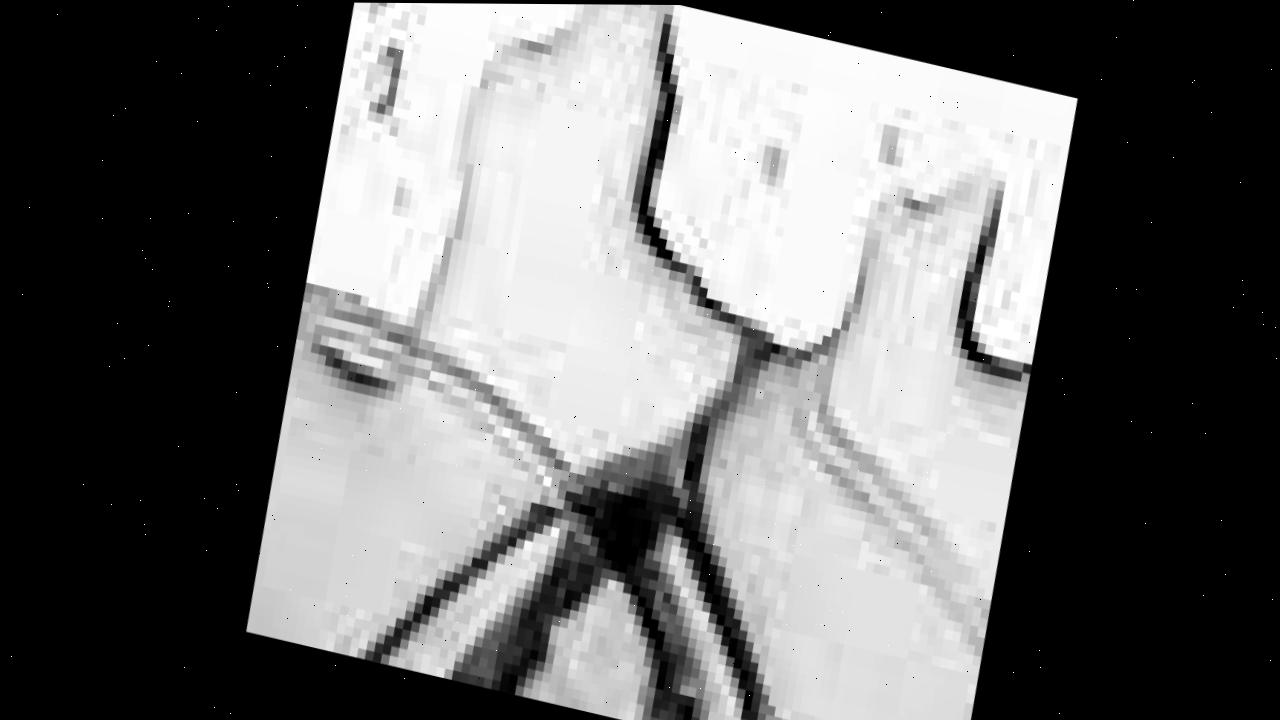Water Stains: (607, 24, 1106, 720)
